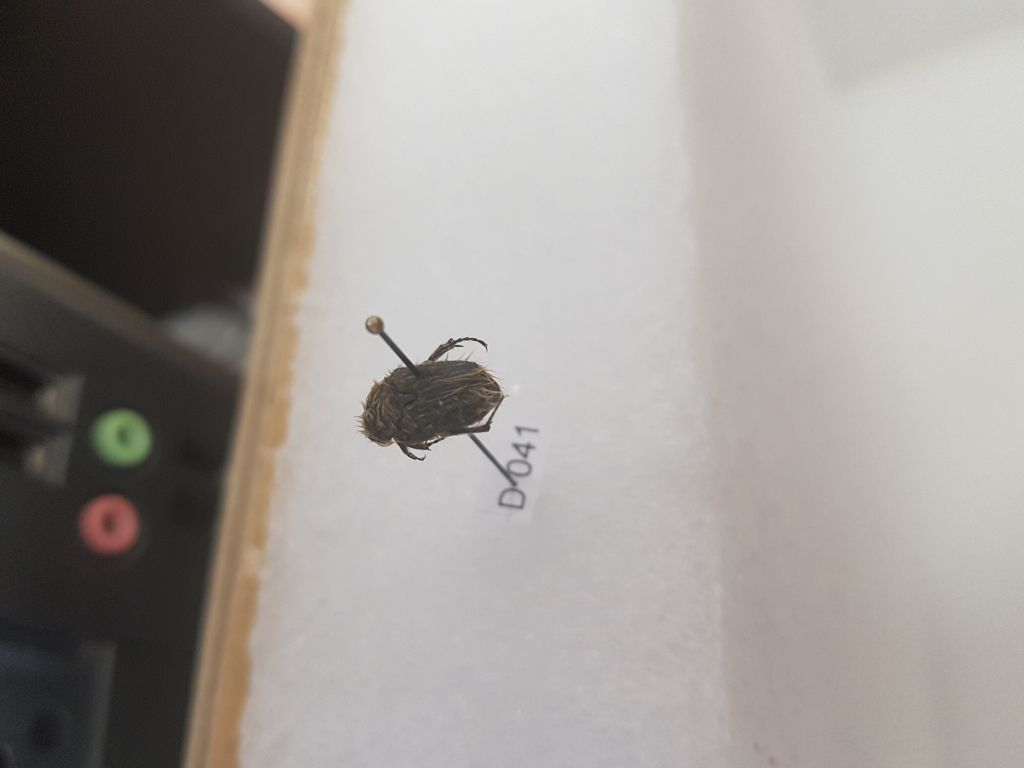Tropinota_senicula: (361, 329, 522, 464)
